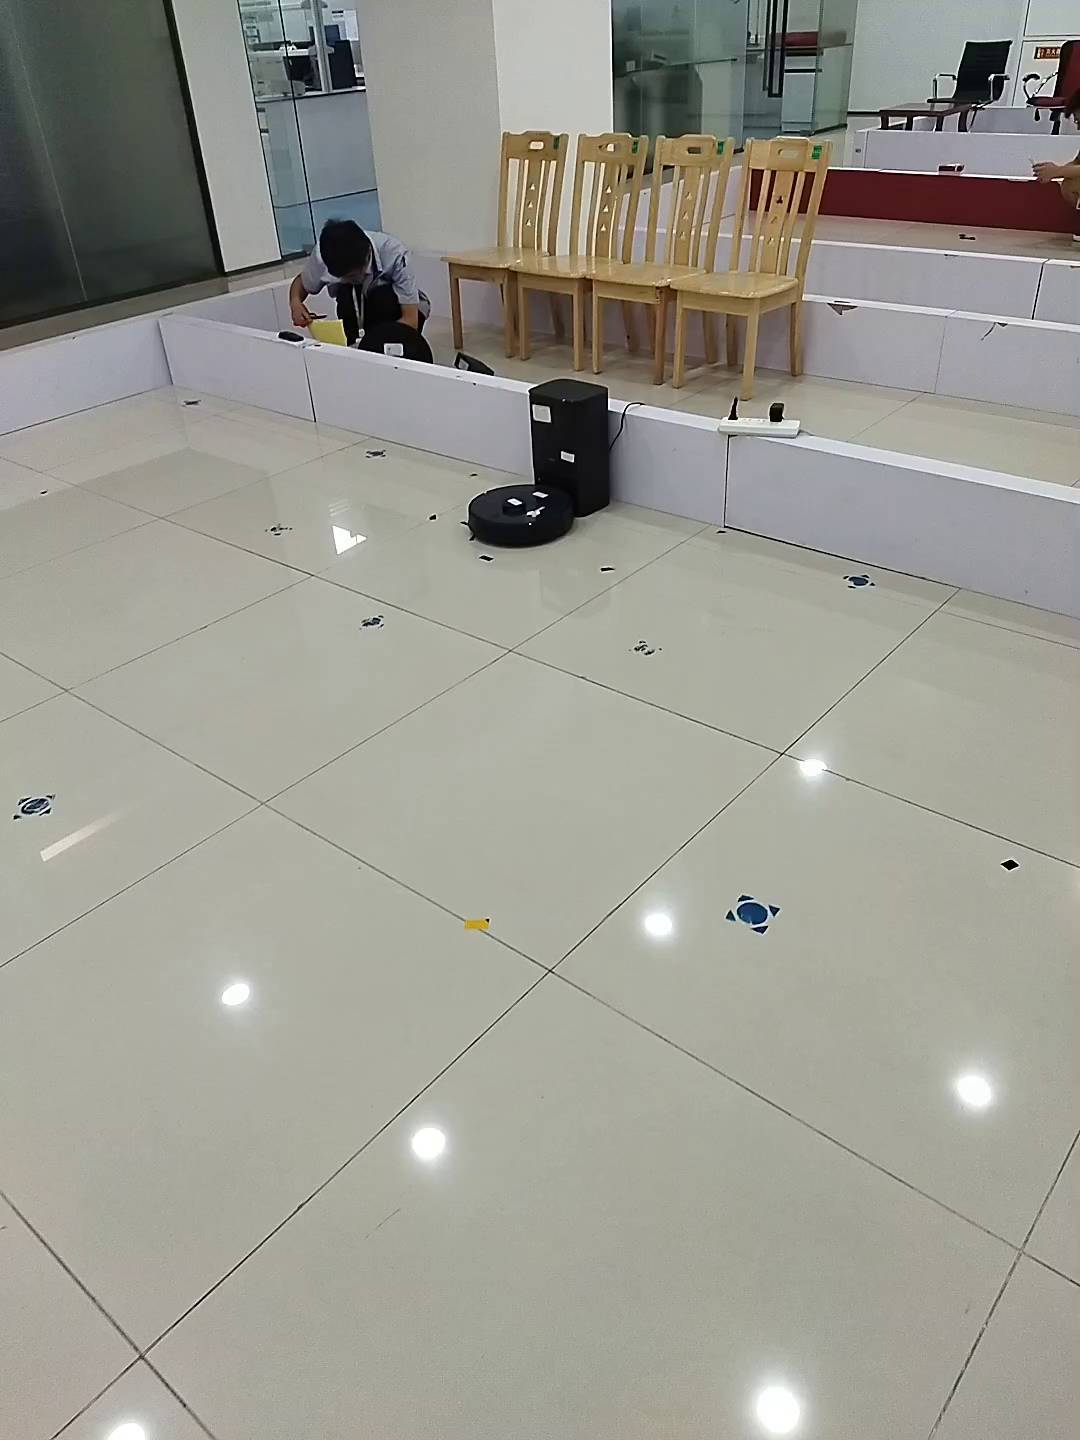dust collecting barrel: (528, 376, 614, 517)
